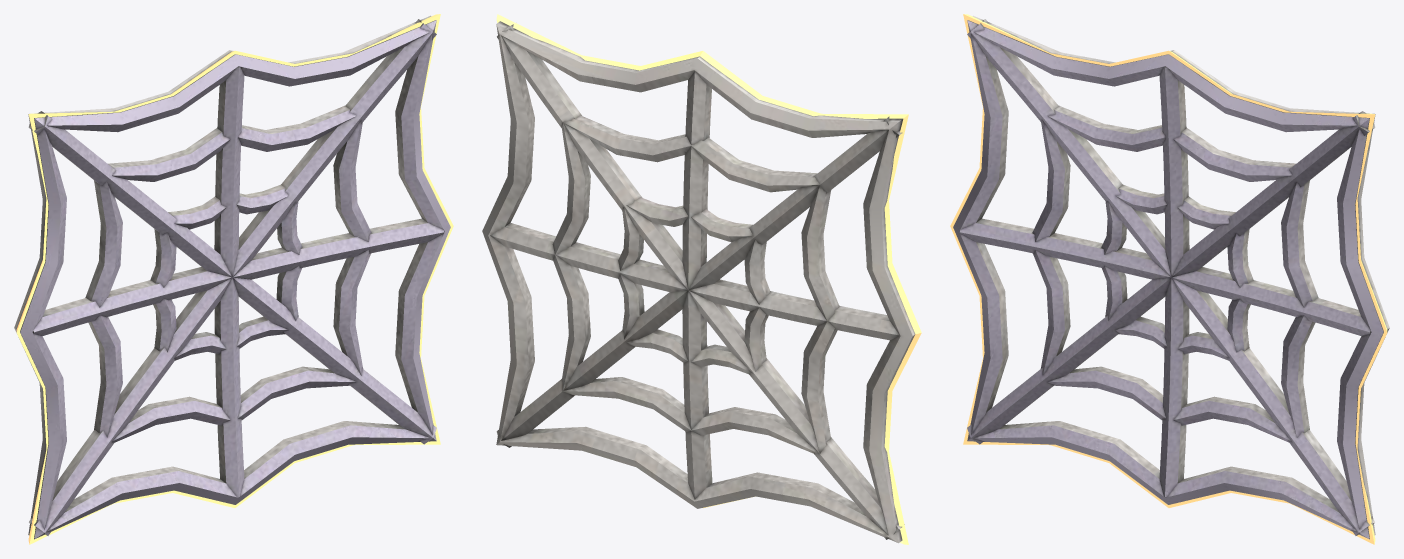
3 renders of one model, left to right at view 1: azimuth 30°, elevation 25°; view 2: azimuth 150°, elevation 25°; view 3: azimuth 330°, elevation 25°, orthographic.
Visible parts, largest first — view 1: Subtle_lavender_hollows, Ghost_cream_satin_vinyl, Soft_pumpkin_edge_glow; view 2: Ghost_cream_satin_vinyl, Soft_pumpkin_edge_glow; view 3: Subtle_lavender_hollows, Ghost_cream_satin_vinyl, Soft_pumpkin_edge_glow.
Boxes of the visible parts, <box> form: Subtle_lavender_hollows: <box>20,20,450,539</box>; Ghost_cream_satin_vinyl: <box>14,15,436,538</box>; Soft_pumpkin_edge_glow: <box>16,14,453,544</box>; Ghost_cream_satin_vinyl: <box>482,21,915,543</box>; Soft_pumpkin_edge_glow: <box>496,14,921,544</box>; Subtle_lavender_hollows: <box>953,20,1383,539</box>; Ghost_cream_satin_vinyl: <box>967,15,1389,538</box>; Soft_pumpkin_edge_glow: <box>950,14,1387,544</box>.
Size of the model in its own units: 0.9544 by 0.9544 by 0.0709.
3 materials, 2 textured.
